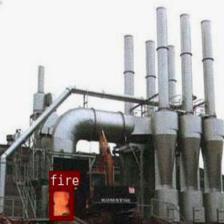fire: (48, 185, 72, 219)
